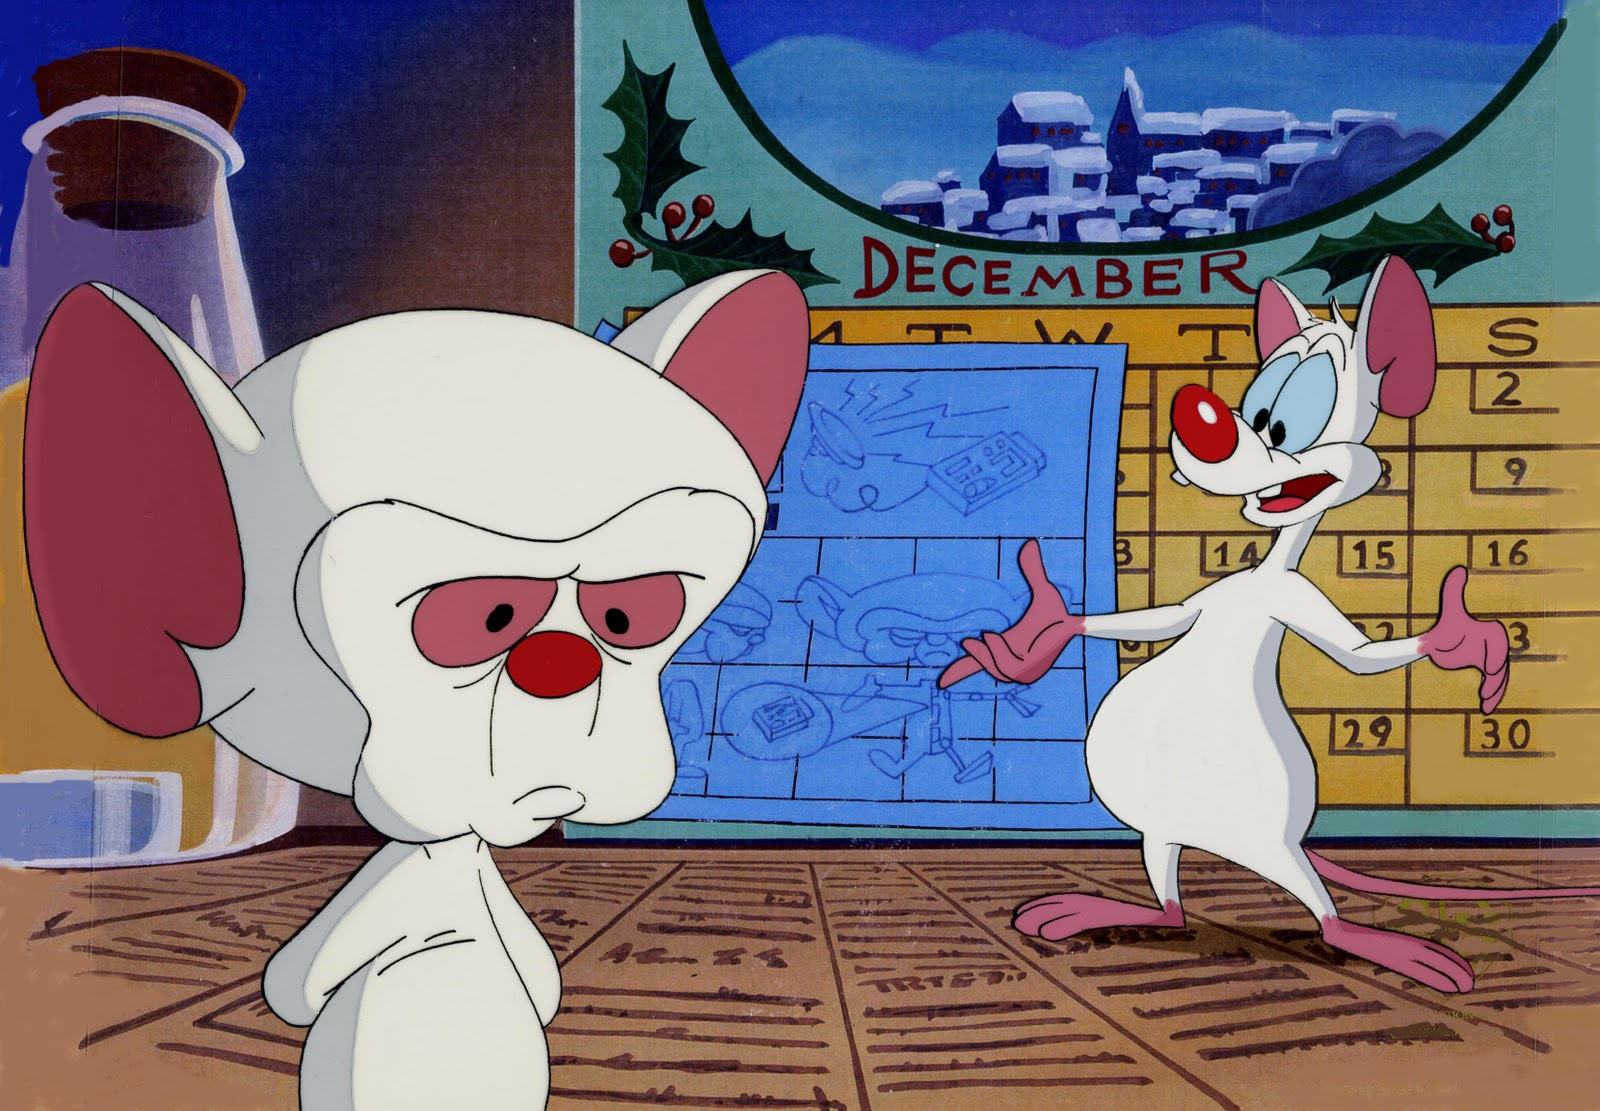cerebro: (1, 236, 913, 1111)
pink: (990, 203, 1544, 1048)
